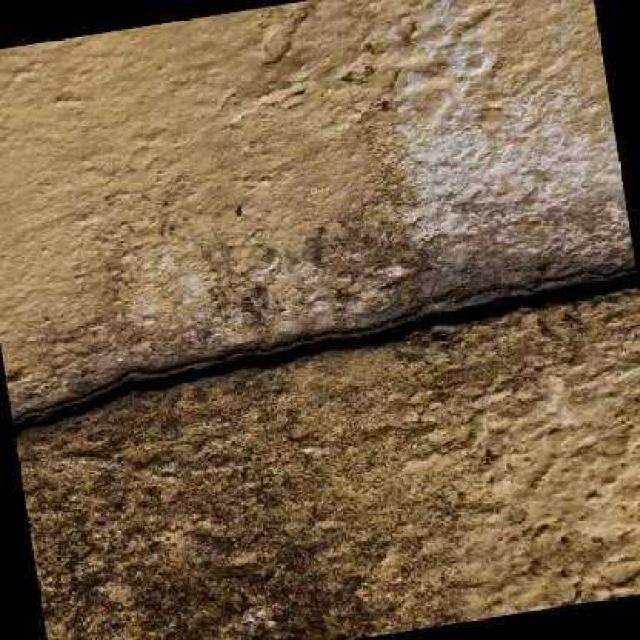D00: (12, 264, 639, 438)
